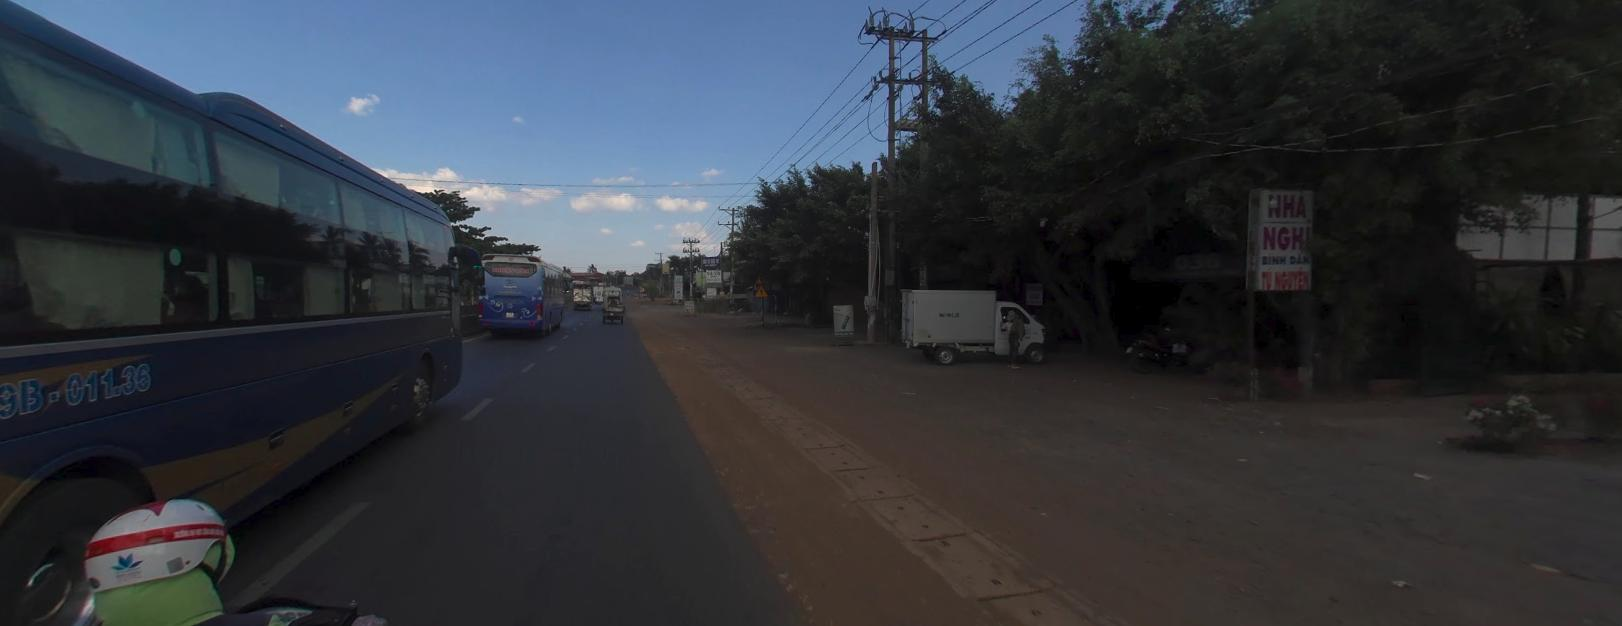Nguy hiem: (754, 284, 767, 295)
